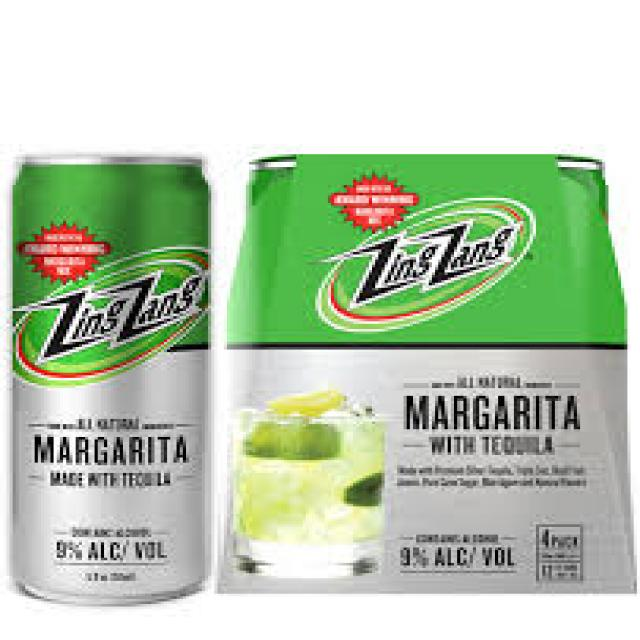Cans: (6, 149, 221, 607)
